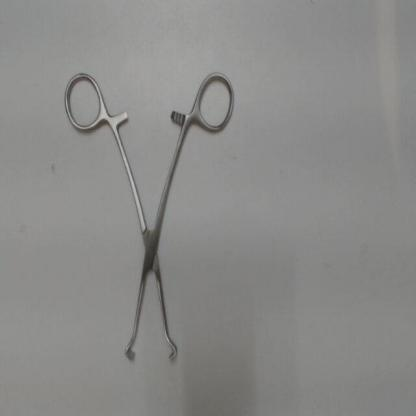Babcock Tissue Forceps: (59, 68, 239, 368)
